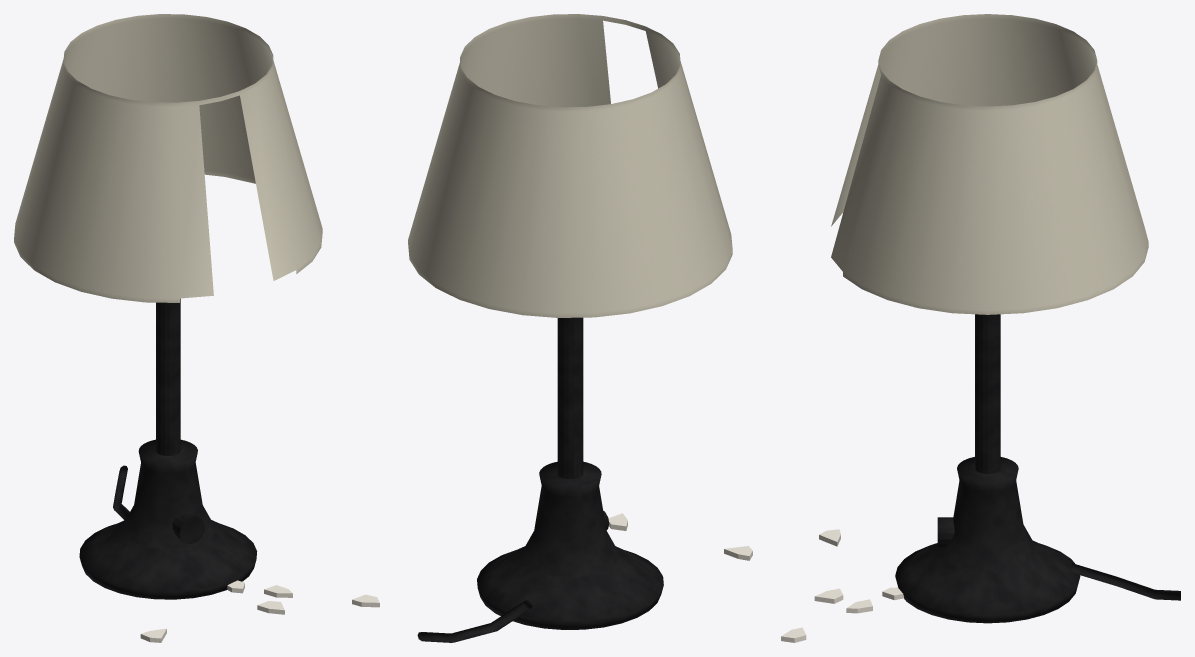
File: PRP_TableLamp_Broken.fbx
3 renders of one model, left to right at view 1: azimuth 30°, elevation 25°; view 2: azimuth 150°, elevation 25°; view 3: azimuth 270°, elevation 25°, orthographic. The views are drawn at different scales.
Parts seen in each view (by area): view 1: Lamp_Shade, Lamp_Base, Lamp_Switch; view 2: Lamp_Shade, Lamp_Base, Lamp_Cord; view 3: Lamp_Shade, Lamp_Base, Lamp_Cord.
Part boxes in pixels (box(x1,y1,x2,y2)): Lamp_Shade: box(14, 14, 322, 302); Lamp_Base: box(79, 298, 257, 599); Lamp_Switch: box(172, 511, 205, 543); Lamp_Shade: box(408, 14, 732, 317); Lamp_Base: box(477, 317, 663, 629); Lamp_Cord: box(417, 600, 532, 642); Lamp_Shade: box(831, 14, 1148, 314); Lamp_Base: box(895, 314, 1080, 623); Lamp_Cord: box(1071, 563, 1180, 600).
Size of the model in its own units: 25 by 45 by 31.06.
